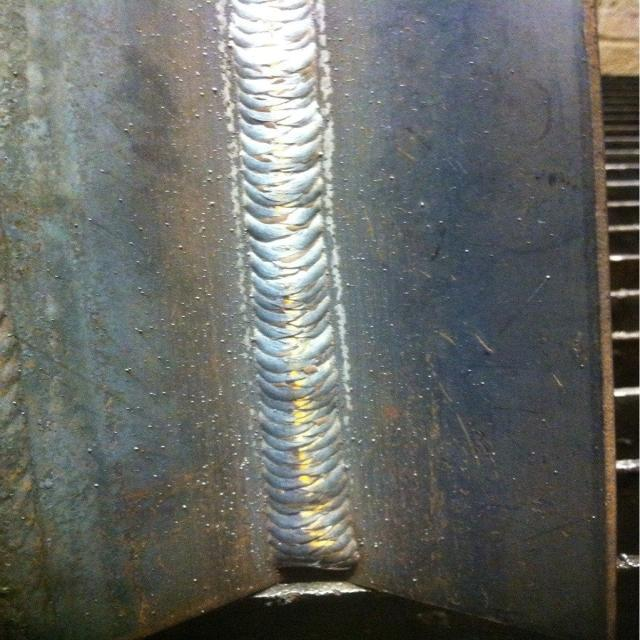Good Welding: (3, 1, 614, 640)
